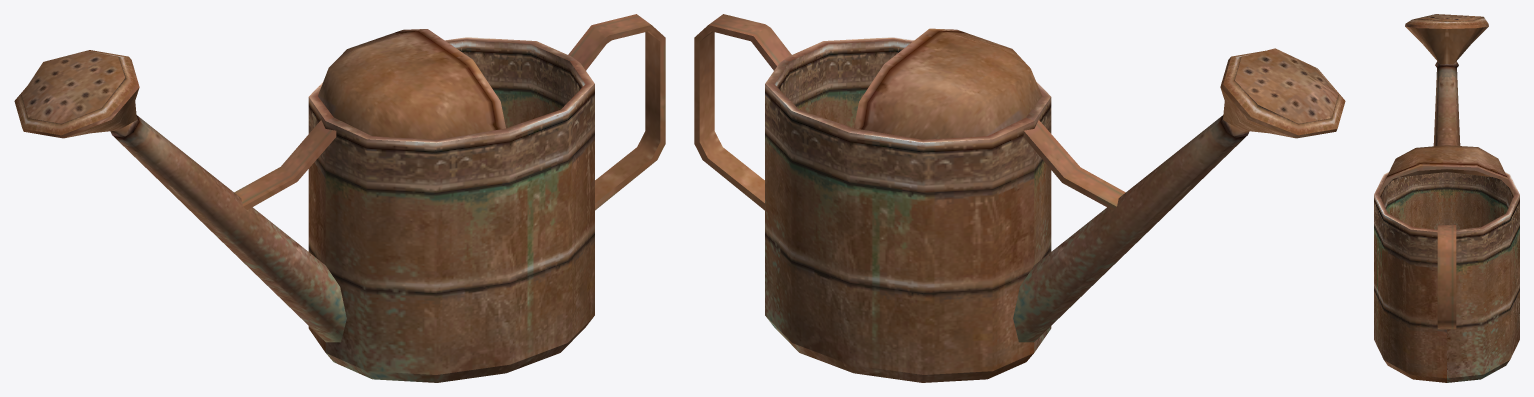
Rendered from waterpot.fbx.
3 views of the same model, side by side, from view 1: azimuth 30°, elevation 25°; view 2: azimuth 150°, elevation 25°; view 3: azimuth 270°, elevation 25° (orthographic). The views are drawn at different scales.
Parts seen in each view (by area): view 1: LV_Common_Object_A_WaterPot01_SM_KSV; view 2: LV_Common_Object_A_WaterPot01_SM_KSV; view 3: LV_Common_Object_A_WaterPot01_SM_KSV.
Part boxes in pixels (x1,y1,x2,y2): LV_Common_Object_A_WaterPot01_SM_KSV: (14,14,665,382); LV_Common_Object_A_WaterPot01_SM_KSV: (694,14,1345,382); LV_Common_Object_A_WaterPot01_SM_KSV: (1374,14,1519,382).
Bounding box in the file's own units: 0.2736 × 0.1471 × 0.0869.
Materials: 1 (1 with a texture image).
